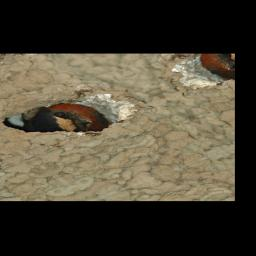Swallow: (11, 95, 119, 150)
